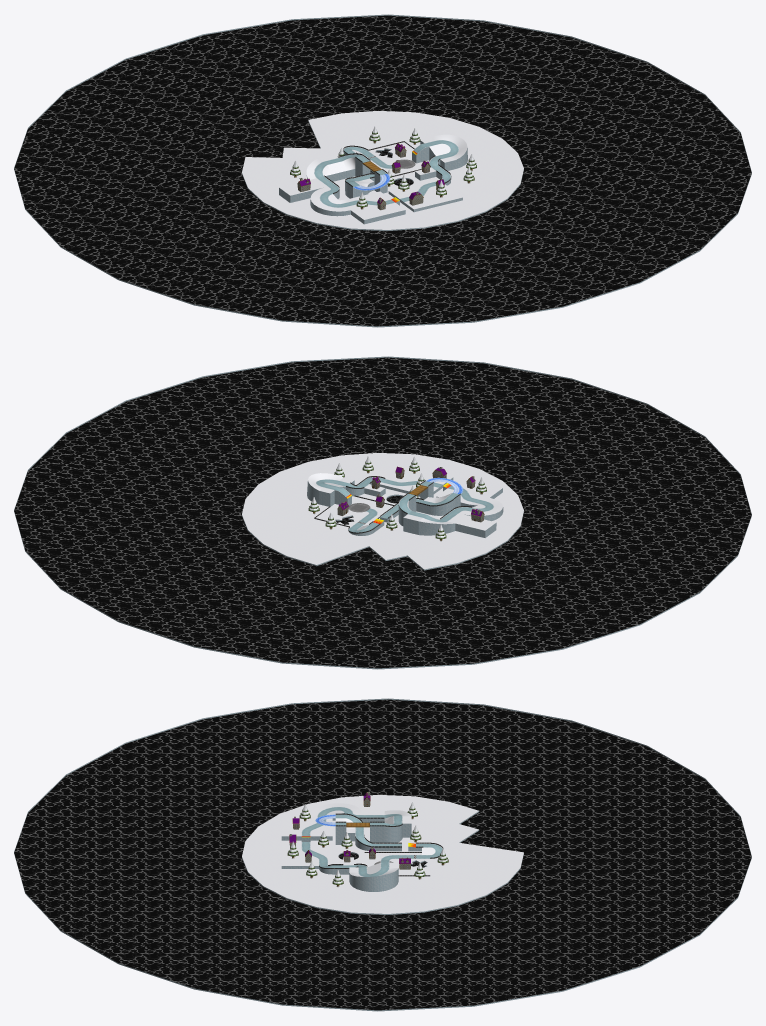
3 views of the same model, one above another, from view 1: azimuth 30°, elevation 25°; view 2: azimuth 150°, elevation 25°; view 3: azimuth 270°, elevation 25° (orthographic).
Parts seen in each view (by area): view 1: Arctic_Chill-SKP--Water, Arctic_Chill-SKP--Snow, Arctic_Chill-SKP--Material9, Arctic_Chill-SKP--Material6, Arctic_Chill-SKP--Material__27, Arctic_Chill-SKP--MarioHouseBrick; view 2: Arctic_Chill-SKP--Water, Arctic_Chill-SKP--Snow, Arctic_Chill-SKP--Material9, Arctic_Chill-SKP--Material6, Arctic_Chill-SKP--Material__27, Arctic_Chill-SKP--Fence, Arctic_Chill-SKP--MarioHouseBrick; view 3: Arctic_Chill-SKP--Water, Arctic_Chill-SKP--Snow, Arctic_Chill-SKP--Material9, Arctic_Chill-SKP--Material6, Arctic_Chill-SKP--Material__27, Arctic_Chill-SKP--Fence.
Part boxes in pixels (x1=…): Arctic_Chill-SKP--Water: x1=14, y1=15, x2=751, y2=326; Arctic_Chill-SKP--Snow: x1=242, y1=111, x2=523, y2=229; Arctic_Chill-SKP--Material9: x1=14, y1=14, x2=751, y2=327; Arctic_Chill-SKP--Material6: x1=314, y1=140, x2=459, y2=207; Arctic_Chill-SKP--Material__27: x1=290, y1=126, x2=476, y2=209; Arctic_Chill-SKP--MarioHouseBrick: x1=297, y1=146, x2=444, y2=210; Arctic_Chill-SKP--Water: x1=14, y1=357, x2=751, y2=668; Arctic_Chill-SKP--Snow: x1=242, y1=453, x2=523, y2=569; Arctic_Chill-SKP--Material9: x1=14, y1=356, x2=751, y2=669; Arctic_Chill-SKP--Material6: x1=316, y1=477, x2=493, y2=532; Arctic_Chill-SKP--Material__27: x1=308, y1=456, x2=486, y2=541; Arctic_Chill-SKP--Fence: x1=314, y1=476, x2=471, y2=533; Arctic_Chill-SKP--MarioHouseBrick: x1=337, y1=467, x2=484, y2=522; Arctic_Chill-SKP--Water: x1=14, y1=699, x2=751, y2=1010; Arctic_Chill-SKP--Snow: x1=242, y1=795, x2=523, y2=913; Arctic_Chill-SKP--Material9: x1=14, y1=698, x2=751, y2=1011; Arctic_Chill-SKP--Material6: x1=301, y1=807, x2=442, y2=876; Arctic_Chill-SKP--Material__27: x1=287, y1=802, x2=448, y2=887; Arctic_Chill-SKP--Fence: x1=319, y1=813, x2=443, y2=876.
Size of the model in its own units: 288764 by 9626 by 288764.
19 materials, 19 textured.
